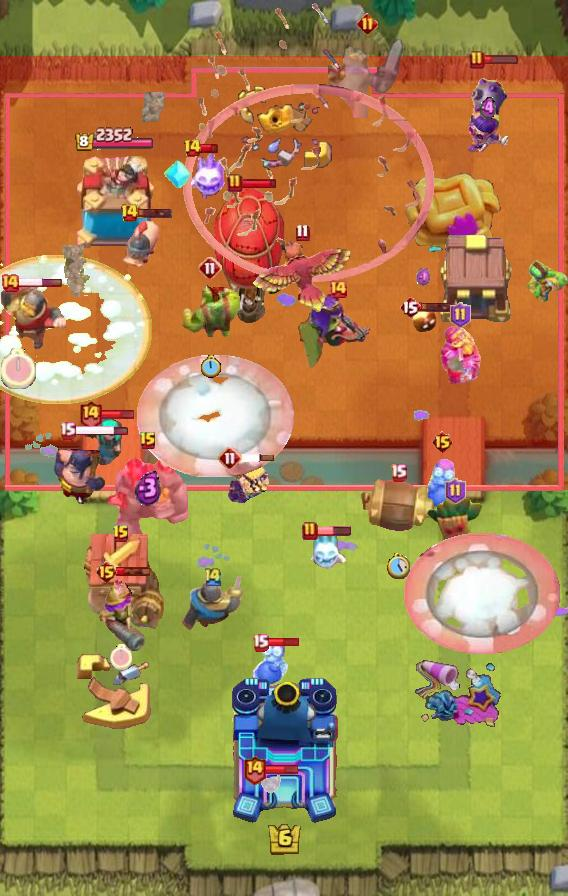bar: (74, 424, 129, 437), (9, 277, 63, 288), (419, 301, 456, 313), (136, 207, 173, 219), (316, 525, 352, 537), (266, 636, 301, 648), (241, 178, 278, 189), (483, 54, 519, 65), (264, 764, 299, 775), (116, 566, 151, 577), (100, 409, 135, 420), (239, 453, 275, 463), (200, 143, 219, 154)
bar-level: (242, 754, 267, 785), (78, 399, 103, 430), (218, 446, 242, 470), (198, 256, 222, 280), (95, 560, 118, 584), (431, 430, 454, 454), (445, 478, 466, 504), (450, 302, 471, 328), (399, 295, 421, 319), (357, 13, 378, 34), (203, 566, 223, 587), (328, 279, 348, 299), (0, 273, 20, 293), (120, 203, 139, 223), (183, 138, 202, 158), (112, 524, 130, 544), (139, 431, 157, 451), (252, 633, 269, 652), (390, 463, 407, 482), (59, 421, 76, 440), (302, 521, 318, 541), (227, 173, 243, 193), (469, 50, 485, 70), (295, 223, 310, 242)
barbarian-barrel: (358, 479, 438, 533)
barbarian-evolution: (225, 454, 271, 503)
bat: (258, 769, 282, 795)
bomber: (250, 638, 290, 686), (425, 459, 459, 509)
bomber-evolution: (464, 61, 512, 157)
clock: (1, 348, 36, 389), (387, 553, 410, 579), (110, 644, 132, 670), (200, 355, 221, 379)
dart-goblin: (425, 496, 485, 572)
dirt: (59, 245, 94, 297), (135, 92, 167, 122)
elixir: (135, 470, 162, 506), (480, 96, 496, 121), (416, 267, 432, 287)
executioner: (52, 435, 108, 507)
fire-spirit: (410, 304, 438, 334)
goblin-brawler: (180, 283, 240, 337)
ice-spirit: (303, 531, 348, 573)
ice-spirit-evolution: (183, 153, 231, 201)
ice-spirit-evolution-symbol: (164, 157, 192, 191)
king-tower: (228, 676, 340, 826)
knight: (0, 279, 66, 351), (181, 576, 245, 631)
knight-evolution: (437, 323, 483, 385)
musketeer: (94, 577, 150, 655)
queen-tower: (68, 156, 160, 256)
rascal-girl: (83, 418, 129, 476)
royal-ghost: (328, 38, 406, 118)
royal-hog: (121, 217, 163, 275)
spear-goblin: (520, 260, 568, 304)
tower-bar: (74, 127, 155, 153)
